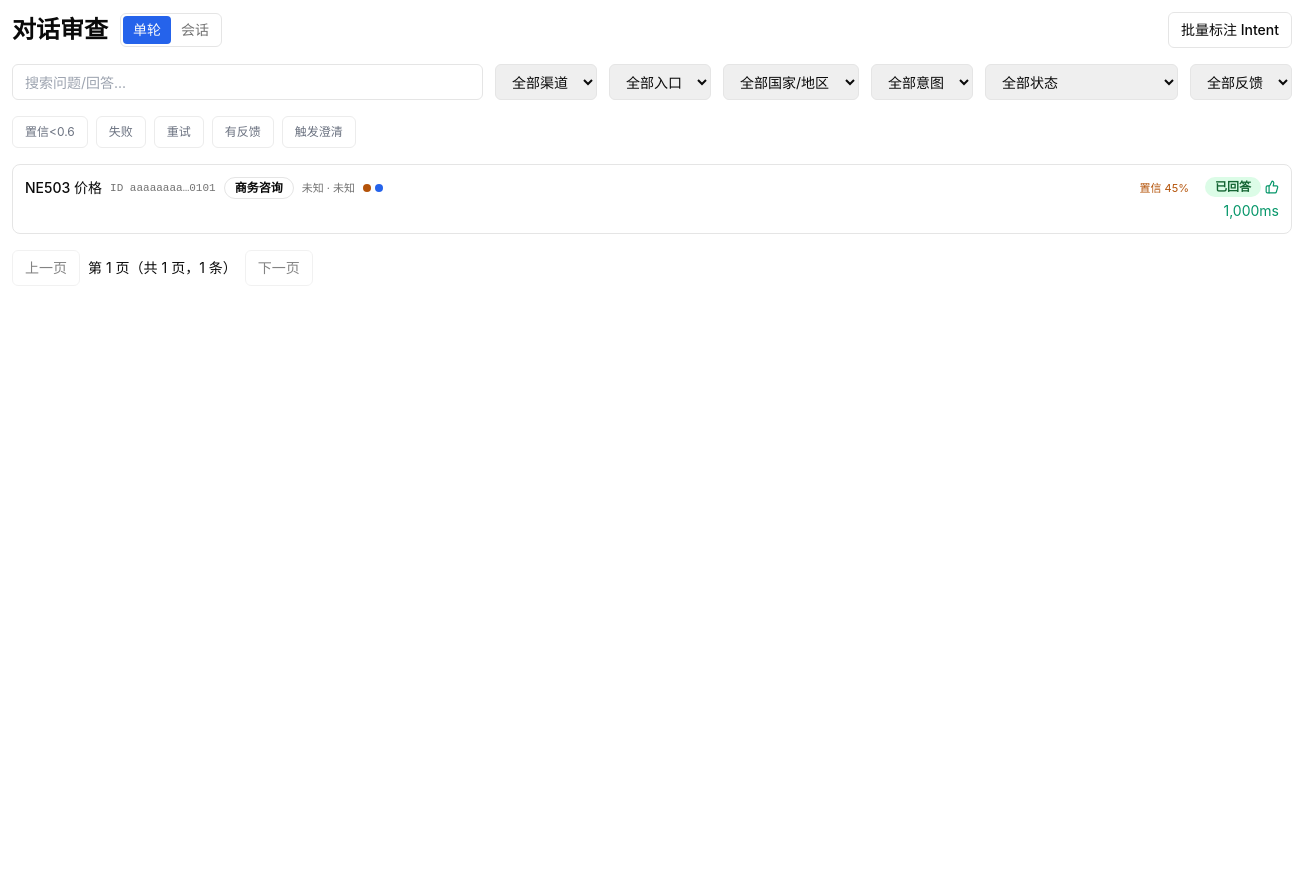
Scenario: Conversations 审查页 › 多轮对话可切换轮次查看 trace
What coordinates should you click on to do the following:
click the text "NE503 价格"
I would click on:
 (64, 188)
Its box is [25, 178, 102, 198].
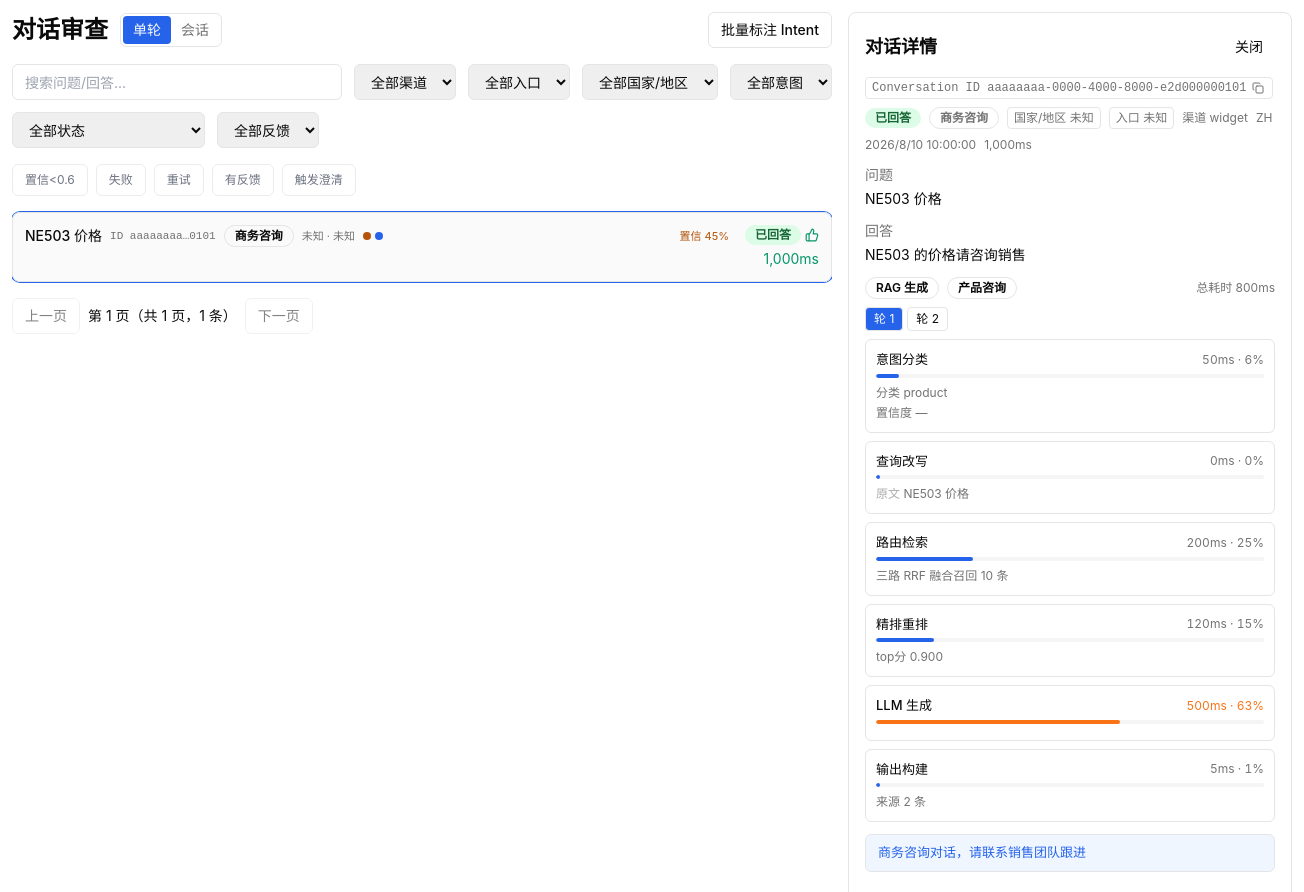
Result: the text "三路 RRF 融合召回 10 条" is shown at [876, 568, 1008, 582]
What coordinates should you click on to do the following:
click the button "轮 2"
I would click on:
 (928, 319)
Its box is [907, 307, 948, 331].
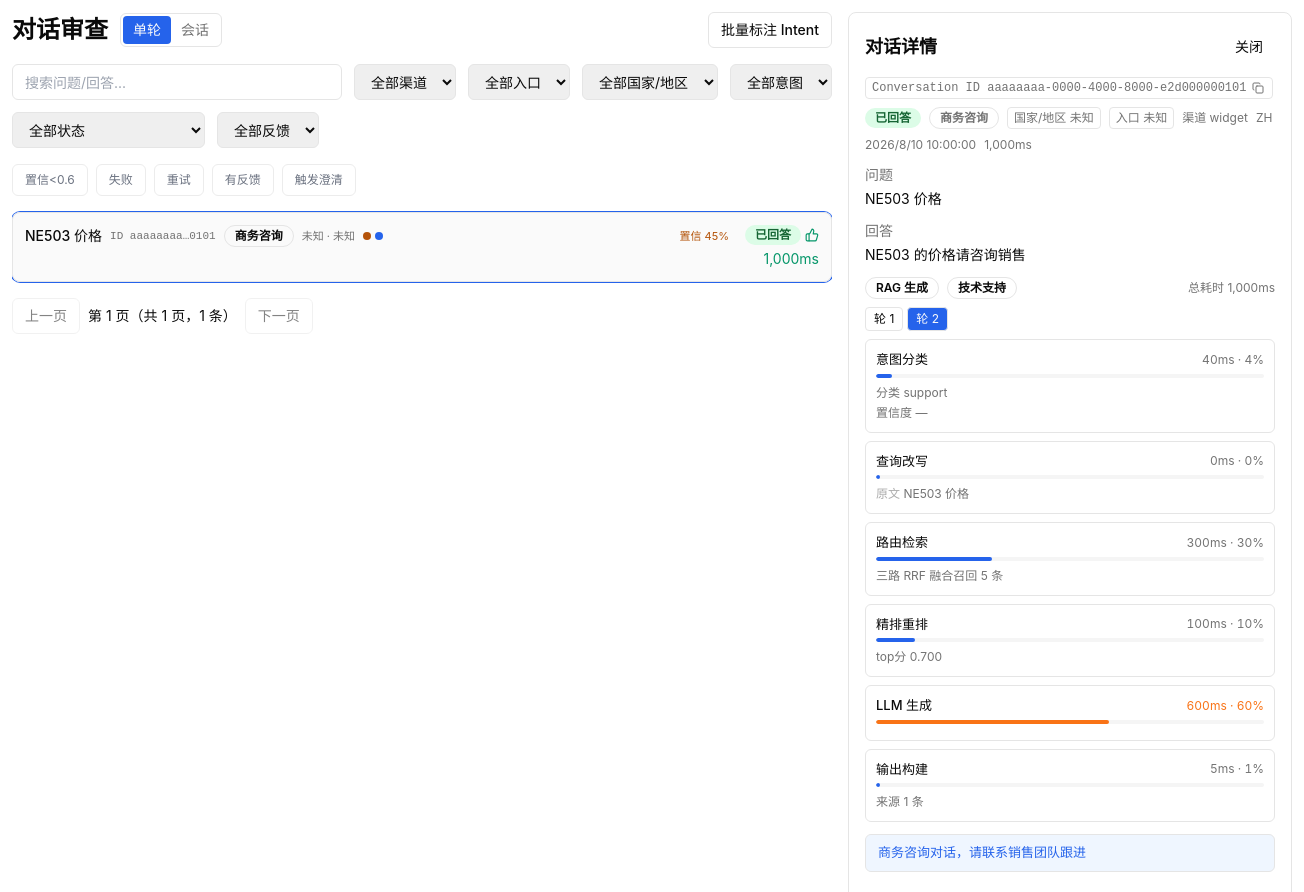
Result: the text "三路 RRF 融合召回 5 条" is shown at [876, 568, 1003, 582]
